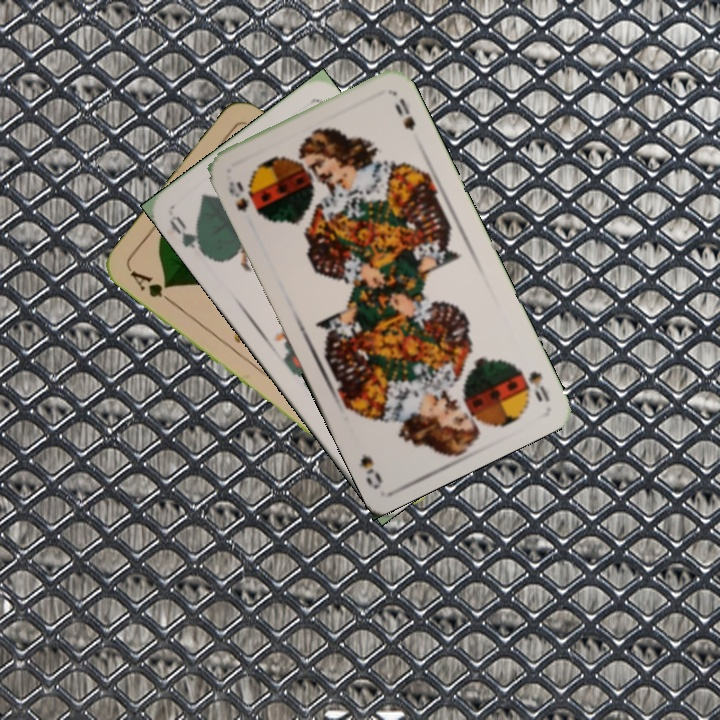GA: (125, 266, 177, 308)
GO: (165, 211, 212, 260)
SO: (224, 177, 262, 218), (515, 365, 553, 405)
